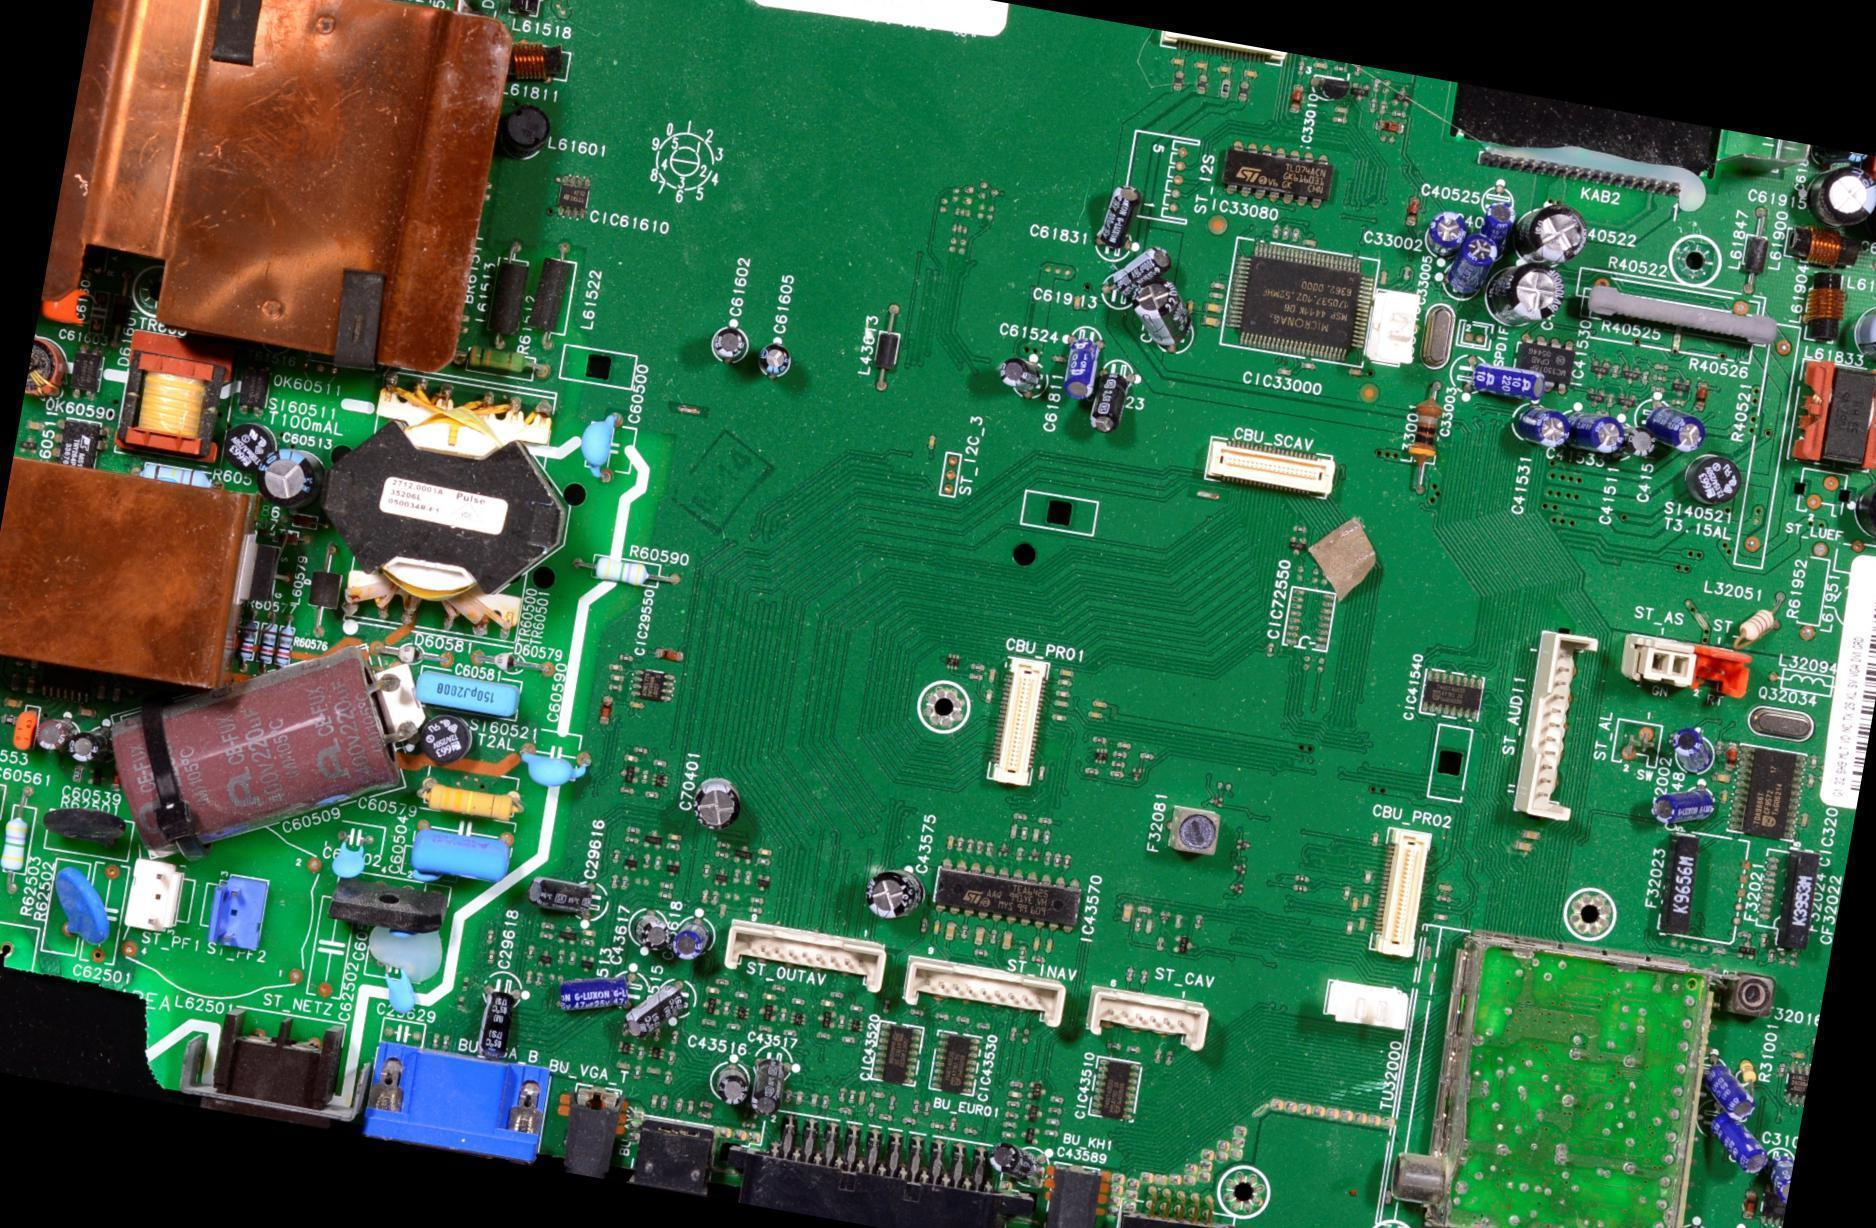Capacitor: (118, 647, 408, 860), (408, 820, 517, 888), (1128, 274, 1202, 351), (1687, 1106, 1768, 1174), (413, 669, 523, 716), (1495, 260, 1568, 329), (574, 407, 630, 492), (1802, 164, 1875, 227), (1519, 201, 1588, 266), (629, 979, 696, 1042), (254, 445, 316, 508), (1571, 406, 1633, 468), (863, 864, 928, 924), (515, 741, 596, 789), (472, 974, 523, 1048), (322, 824, 383, 885), (37, 274, 100, 333), (1459, 359, 1546, 402), (551, 971, 631, 1015), (1656, 775, 1719, 828), (1507, 404, 1571, 456), (1696, 1051, 1747, 1114), (528, 876, 605, 917), (991, 347, 1047, 401), (1056, 333, 1103, 399), (1096, 184, 1146, 245), (1645, 402, 1707, 449), (1114, 238, 1162, 300), (1667, 719, 1720, 775), (748, 1051, 793, 1115), (990, 1142, 1054, 1187), (1086, 364, 1131, 428), (690, 778, 741, 829), (708, 1059, 755, 1114), (374, 968, 424, 1016), (1459, 234, 1501, 289), (1427, 208, 1475, 255), (627, 907, 674, 954), (30, 714, 72, 758), (1617, 424, 1661, 466), (65, 727, 107, 769), (1481, 197, 1522, 241), (667, 919, 713, 960), (1310, 68, 1355, 106), (1850, 297, 1875, 364), (709, 322, 750, 361), (82, 242, 122, 281), (12, 704, 40, 752), (1855, 475, 1875, 540), (756, 340, 790, 376), (1825, 147, 1872, 171), (1670, 1216, 1718, 1227)
Connector: (1512, 626, 1609, 828), (900, 953, 1068, 1033), (723, 918, 889, 994), (981, 647, 1061, 786), (1199, 431, 1347, 502), (1362, 824, 1438, 960), (1083, 985, 1214, 1052), (1150, 29, 1295, 71)
IC: (1218, 234, 1381, 366), (932, 858, 1087, 938), (1723, 738, 1815, 840), (1215, 135, 1330, 206), (1413, 660, 1494, 728), (1080, 1052, 1149, 1124), (865, 1016, 929, 1090), (1278, 580, 1340, 657), (926, 1028, 988, 1100), (44, 413, 112, 472), (546, 168, 602, 224), (1753, 1139, 1796, 1205), (628, 662, 681, 707), (1777, 1058, 1811, 1105), (1753, 1197, 1786, 1227)
Resistor: (42, 856, 115, 957), (415, 776, 532, 828), (43, 803, 137, 859), (458, 337, 556, 379), (0, 790, 42, 883), (583, 553, 660, 592), (1737, 604, 1789, 648), (236, 609, 267, 660), (256, 613, 284, 669), (275, 617, 302, 673), (1734, 1055, 1770, 1094), (1692, 378, 1718, 421)
